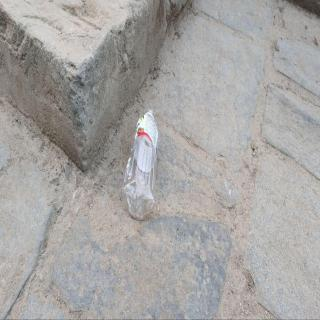Plastic-bottle: (122, 105, 161, 224)
